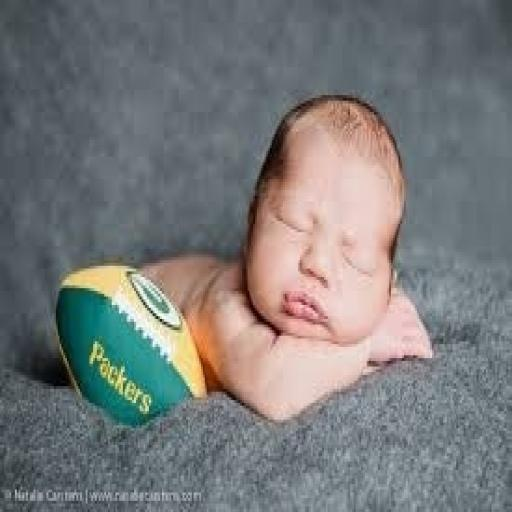sleeping: (52, 90, 436, 428)
